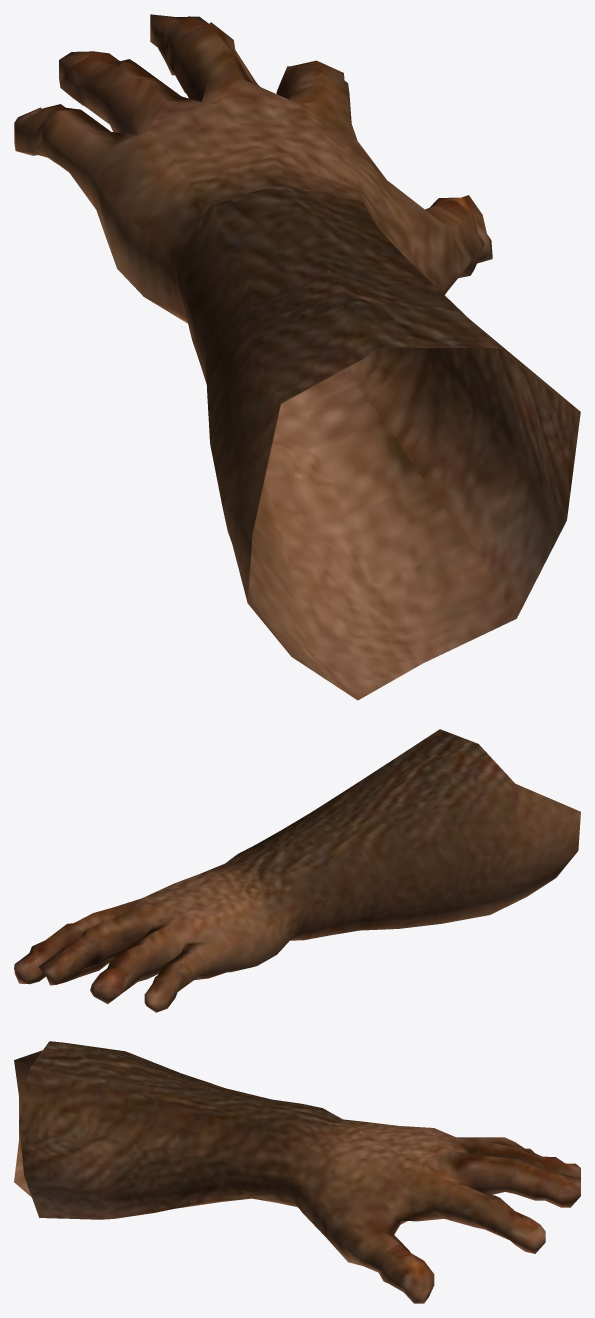
File: meganthropus-tangan.glb
3 renders of one model, top to bottom at view 1: azimuth 30°, elevation 25°; view 2: azimuth 150°, elevation 25°; view 3: azimuth 270°, elevation 25°, orthographic. The views are drawn at different scales.
Parts seen in each view (by area): view 1: meganthrops-tangan; view 2: meganthrops-tangan; view 3: meganthrops-tangan.
Boxes of the visible parts, x1=… form: meganthrops-tangan: x1=14, y1=14, x2=580, y2=700; meganthrops-tangan: x1=14, y1=729, x2=580, y2=1012; meganthrops-tangan: x1=14, y1=1041, x2=580, y2=1303.
Bounding box in the file's own units: 0.1445 × 0.0703 × 0.2188.
1 material, 1 textured.
